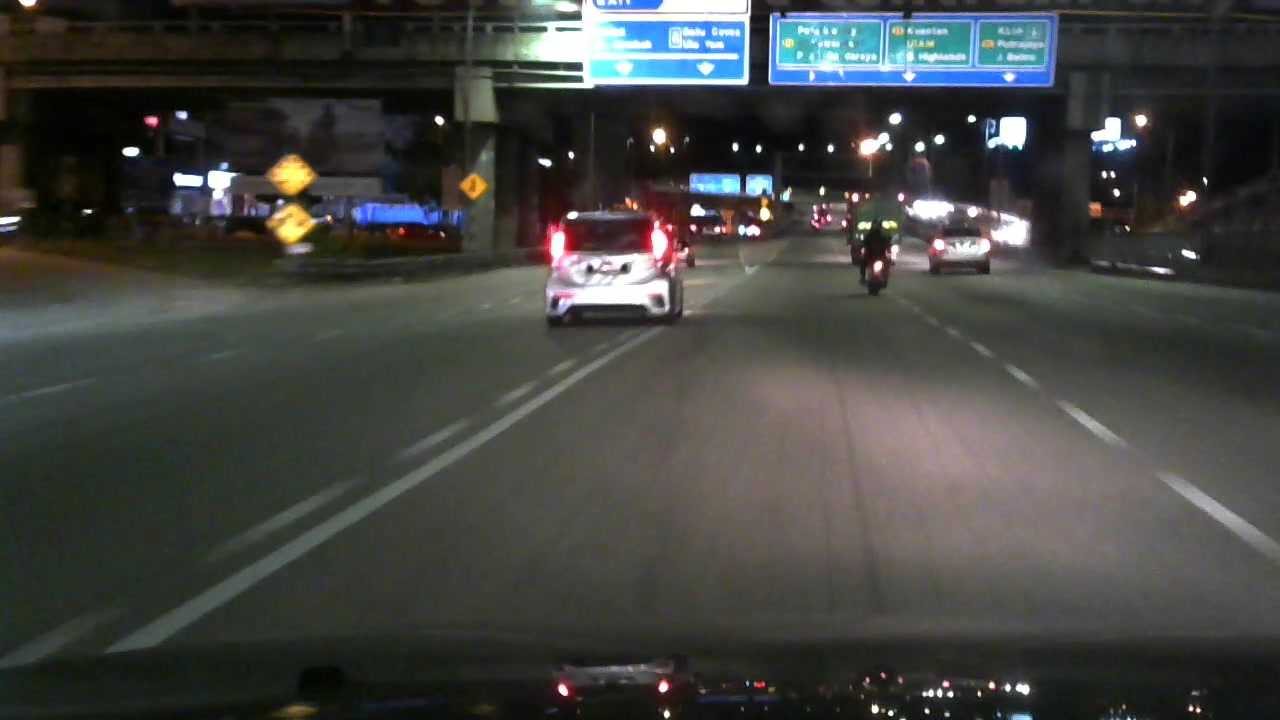Car: (525, 203, 699, 337), (928, 219, 999, 285), (811, 199, 840, 228), (730, 221, 764, 240)
